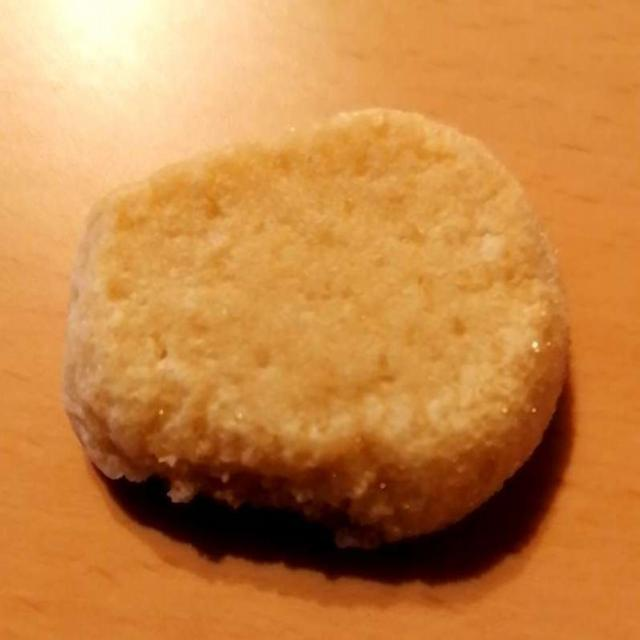biscuits: (82, 93, 559, 544)
